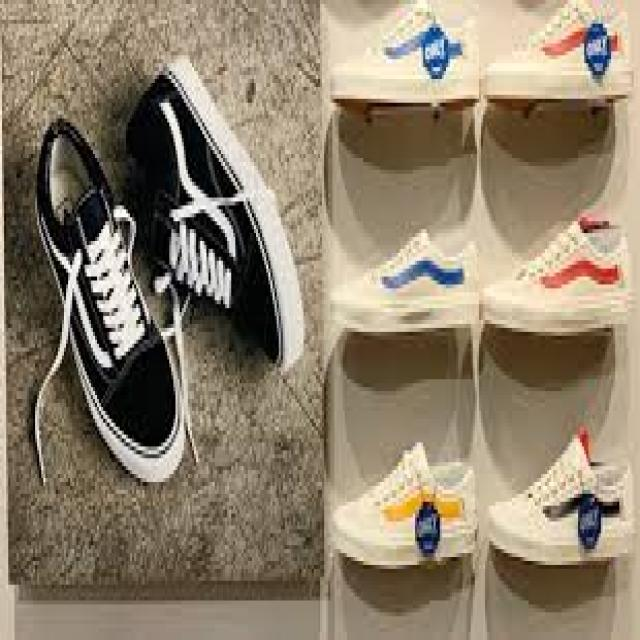shoe: (133, 29, 316, 385), (30, 114, 192, 505)
